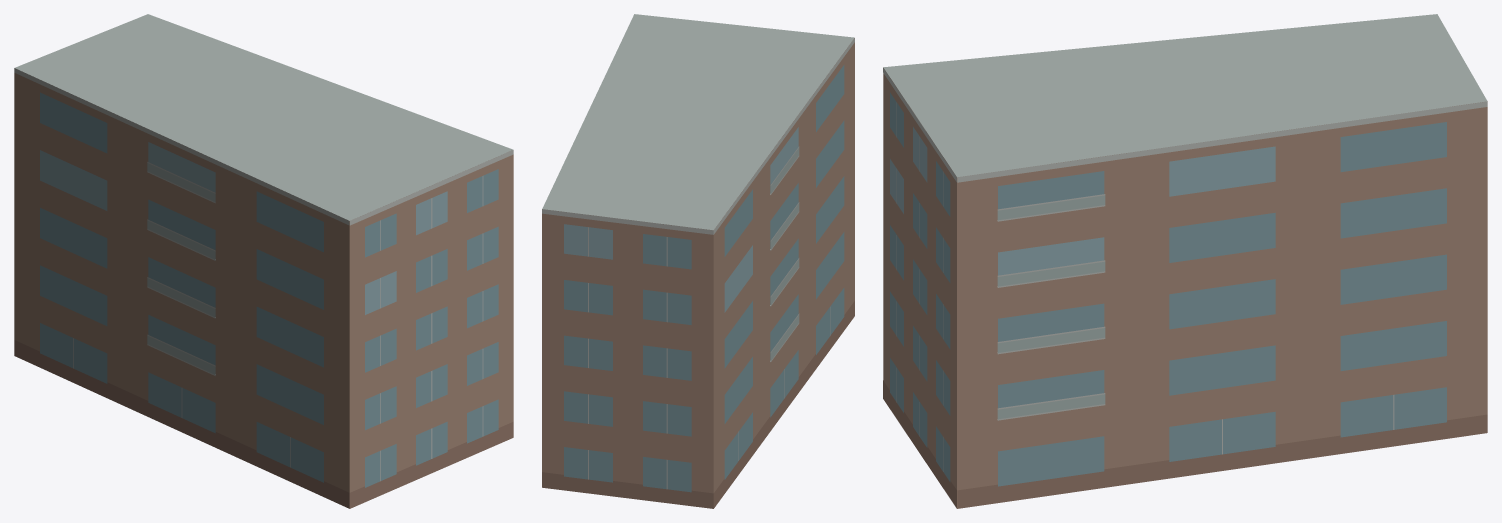
The model's file is survey-upis-32909706.glb.
3 renders of one model, left to right at view 1: azimuth 30°, elevation 25°; view 2: azimuth 150°, elevation 25°; view 3: azimuth 270°, elevation 25°, orthographic. The views are drawn at different scales.
Visible parts, largest first — view 1: survey-upis-32909706.tmp; view 2: survey-upis-32909706.tmp; view 3: survey-upis-32909706.tmp.
Boxes of the visible parts, box(x1,y1,x2,y2) form: survey-upis-32909706.tmp: box(14, 14, 513, 508); survey-upis-32909706.tmp: box(542, 14, 854, 508); survey-upis-32909706.tmp: box(883, 14, 1487, 508).
Size of the model in its own units: 15.64 by 14.8 by 24.46.
